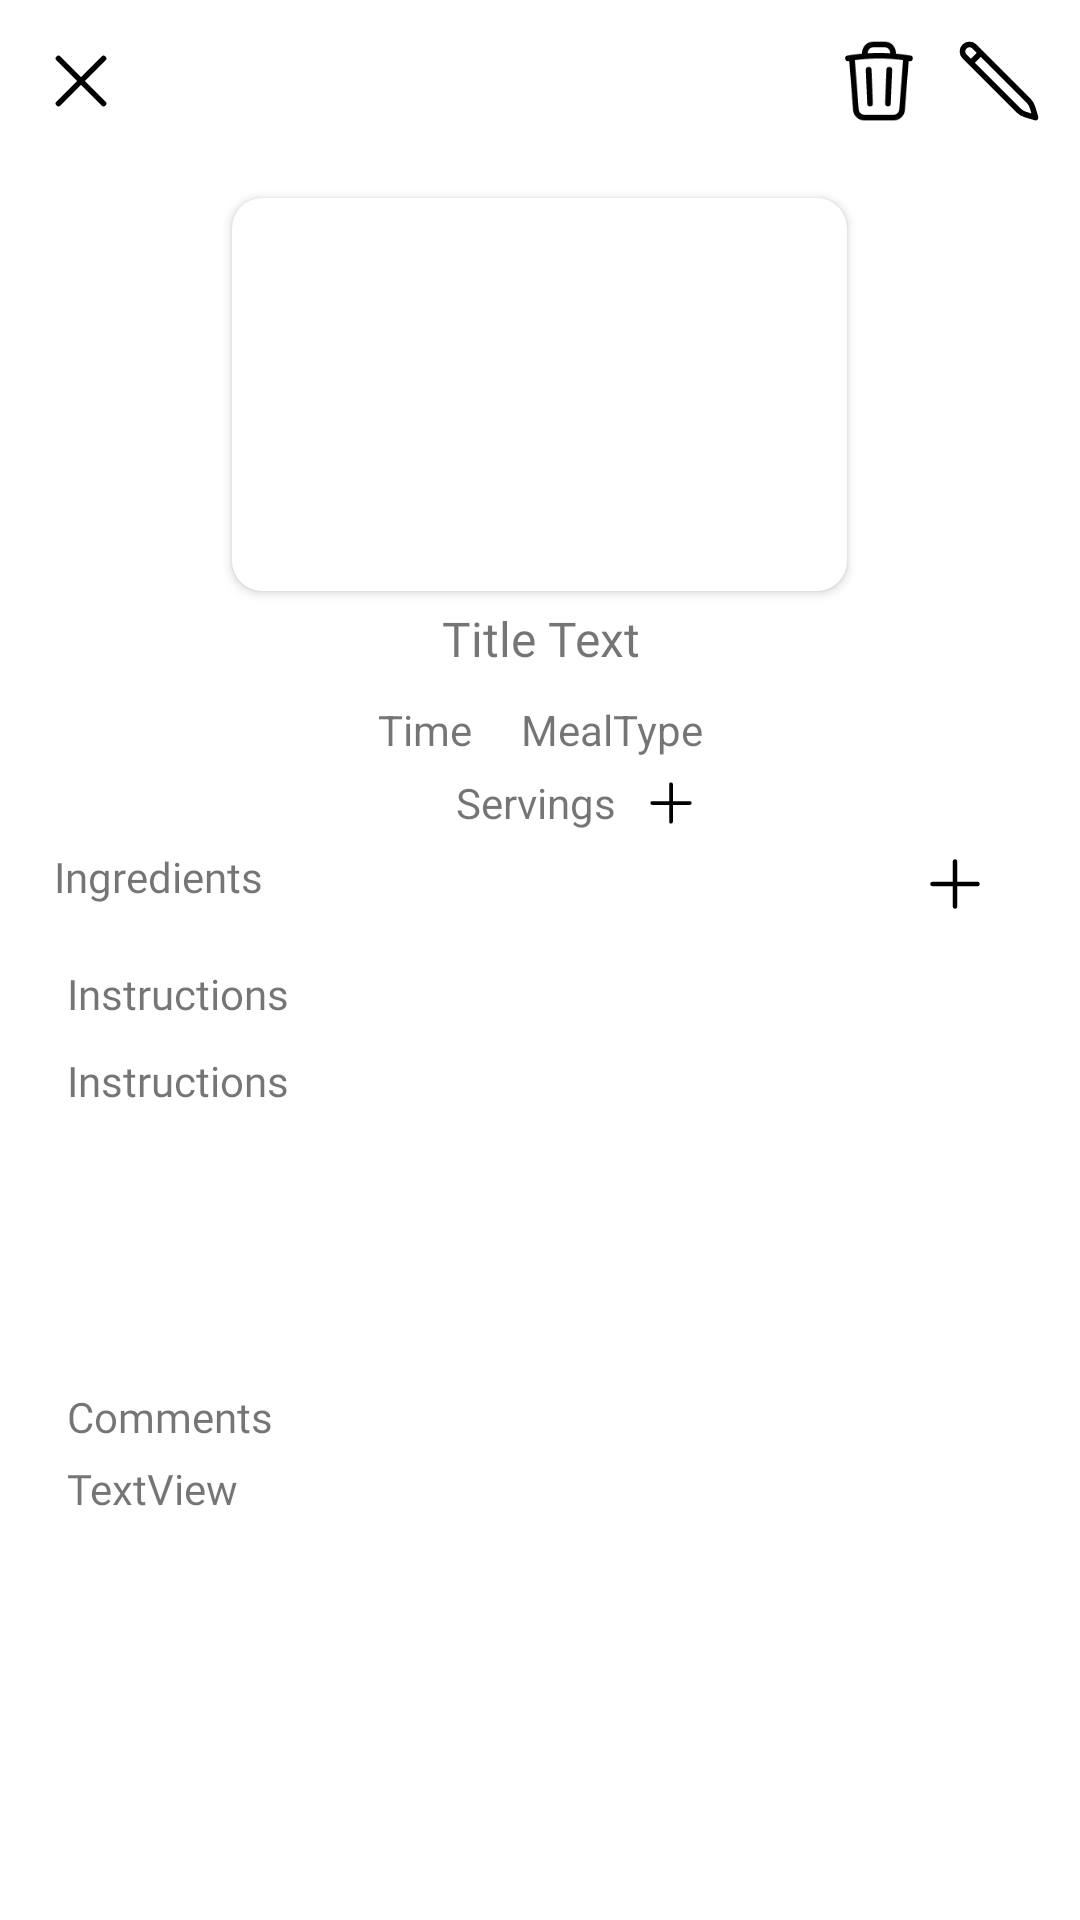

Screen size 1080×1920. Icon name, then its box in pixels as (x1, y1, x2, y2):
add: (650, 782, 692, 824), (930, 859, 980, 909)
cancel: (55, 55, 107, 107)
pencil: (959, 41, 1039, 121)
trash: (845, 41, 913, 121)
